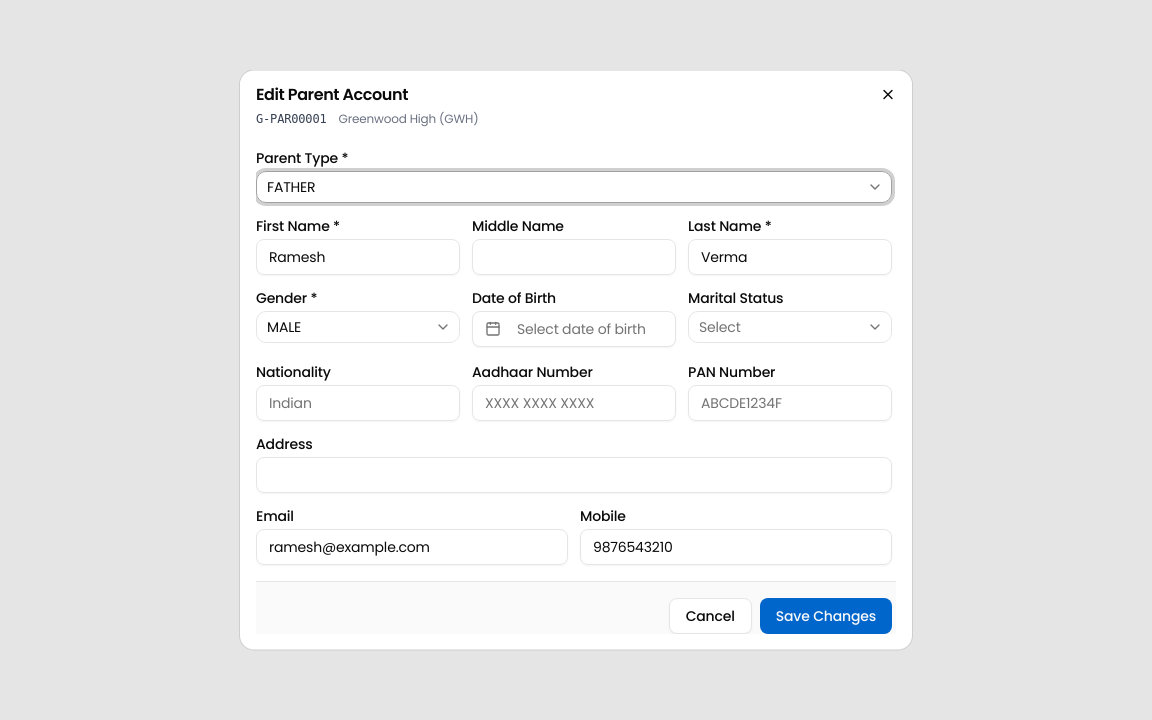
Test case: EditParentDialog › blocks non-digit keystrokes in the mobile field
The width and height of the screenshot is (1152, 720).
Replace the text in the field showing "9876543210" below "Mobile" with "abc123def" at [736, 546], box [580, 528, 892, 564]
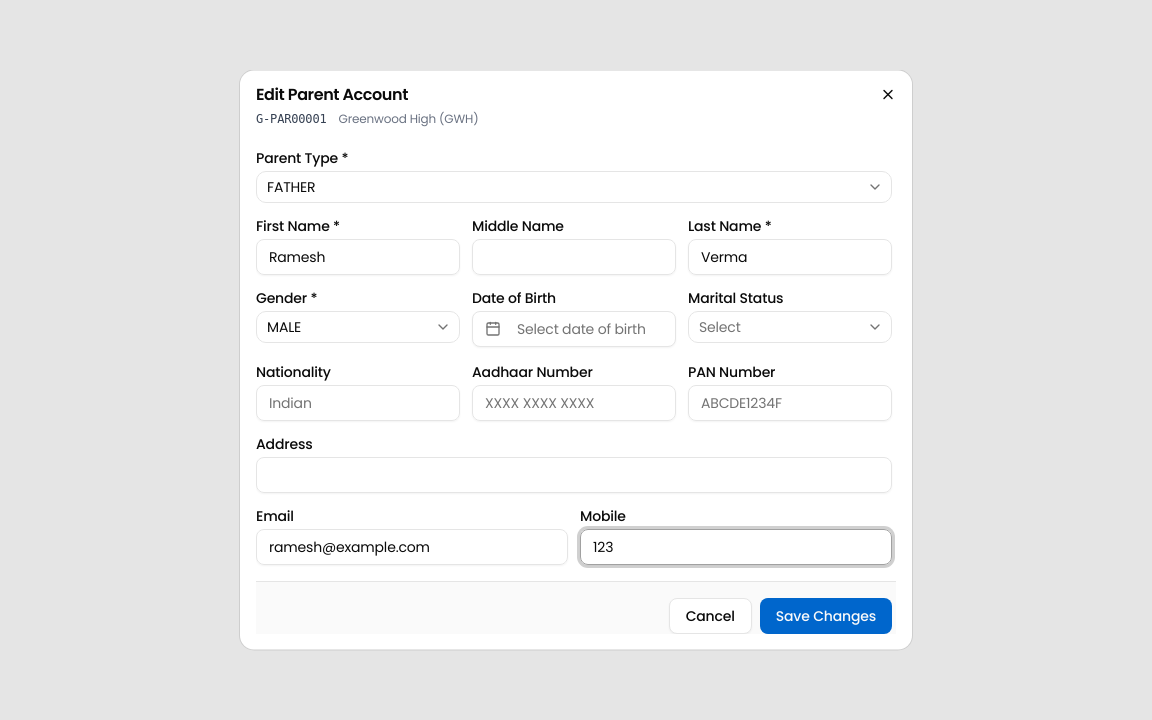
Check: the field showing "9876543210" below "Mobile" holds "123", box [580, 528, 892, 564]
